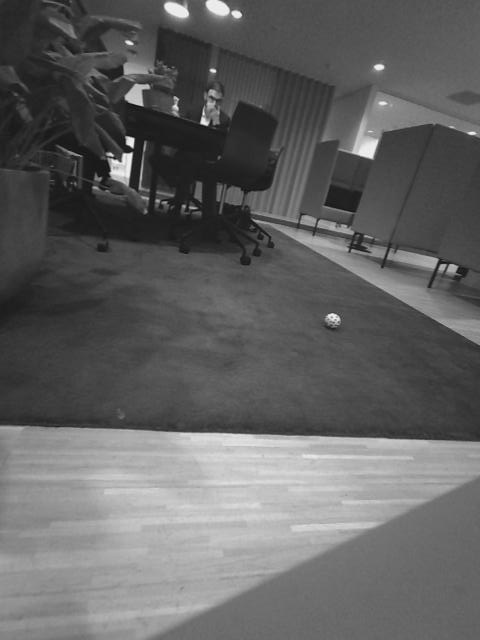dogtoy: (321, 307, 347, 333)
